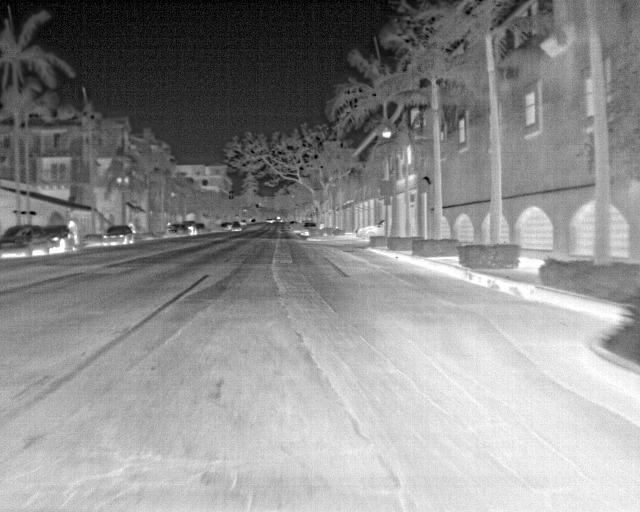bicycle: (0, 224, 54, 258), (44, 225, 74, 253), (101, 224, 135, 245), (355, 219, 385, 238), (163, 224, 190, 237), (181, 220, 199, 238), (300, 220, 318, 237), (229, 221, 243, 234)
empty: (67, 219, 79, 244)
